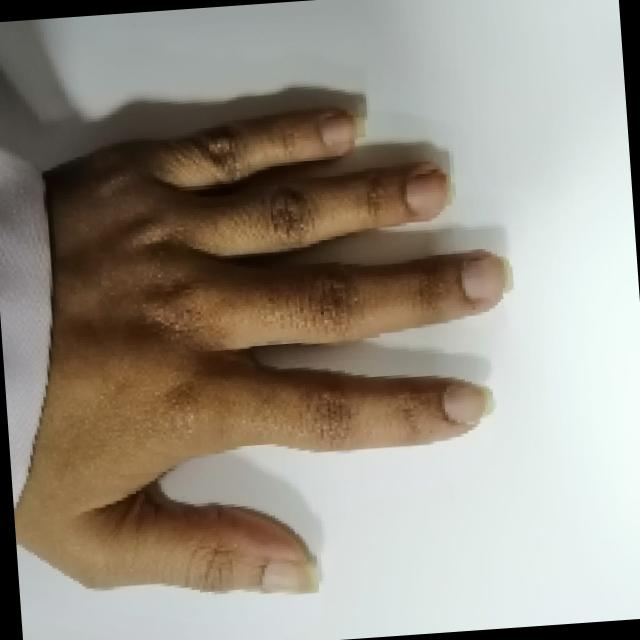Nail: (459, 256, 512, 299), (441, 384, 492, 425), (405, 169, 455, 210), (261, 561, 321, 594), (320, 115, 365, 146)
